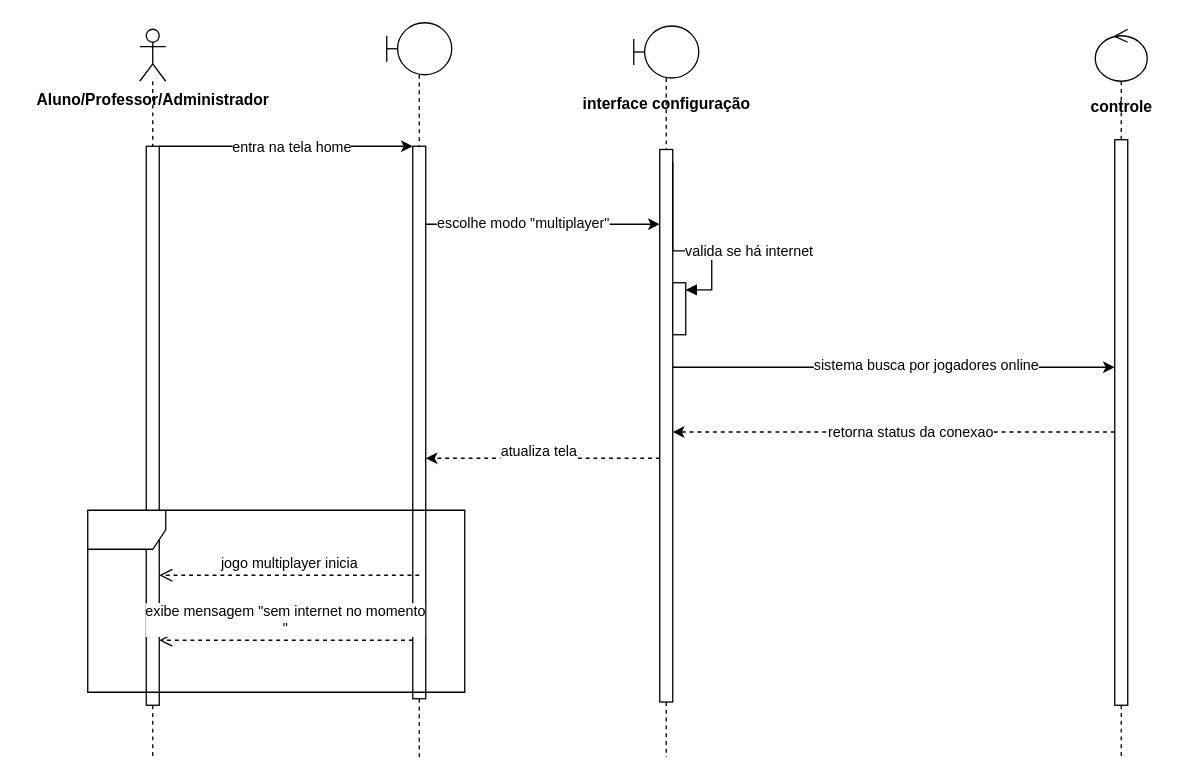
Some shapes in this 1188 by 780 pixel diagram are drawn without their labels. The box of each missing label's shape, as (x1, y1, x2, y2) in pixels:
alt: (86, 509, 465, 692)
Interface Home: (385, 21, 452, 757)
